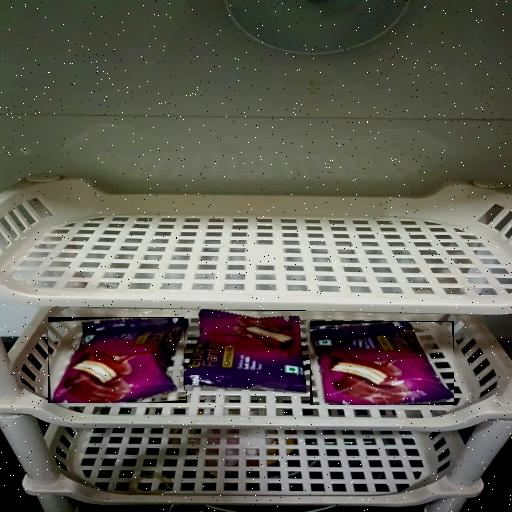Choco Pie: (310, 321, 454, 405), (48, 317, 187, 403), (184, 310, 306, 390)
